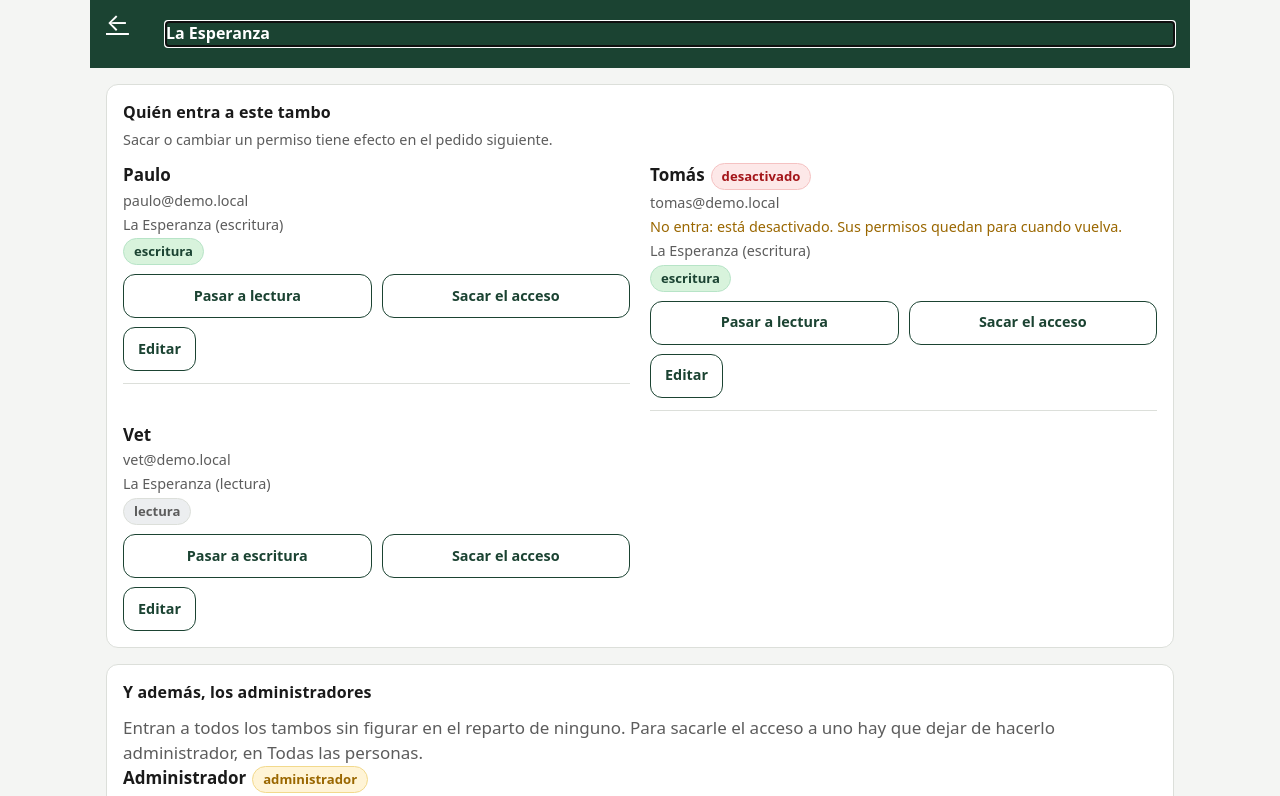
Scenario: repartir el acceso › un rechazo se muestra con el mensaje de la API y la lista queda como estaba
This screenshot has width=1280, height=796.
Expected: the heading "Quién entra a este tambo" is shown, [123,101,331,123]
Click the button "Sacar el acceso" below "paulo@demo.local" at (506, 296), box [382,274,630,318]
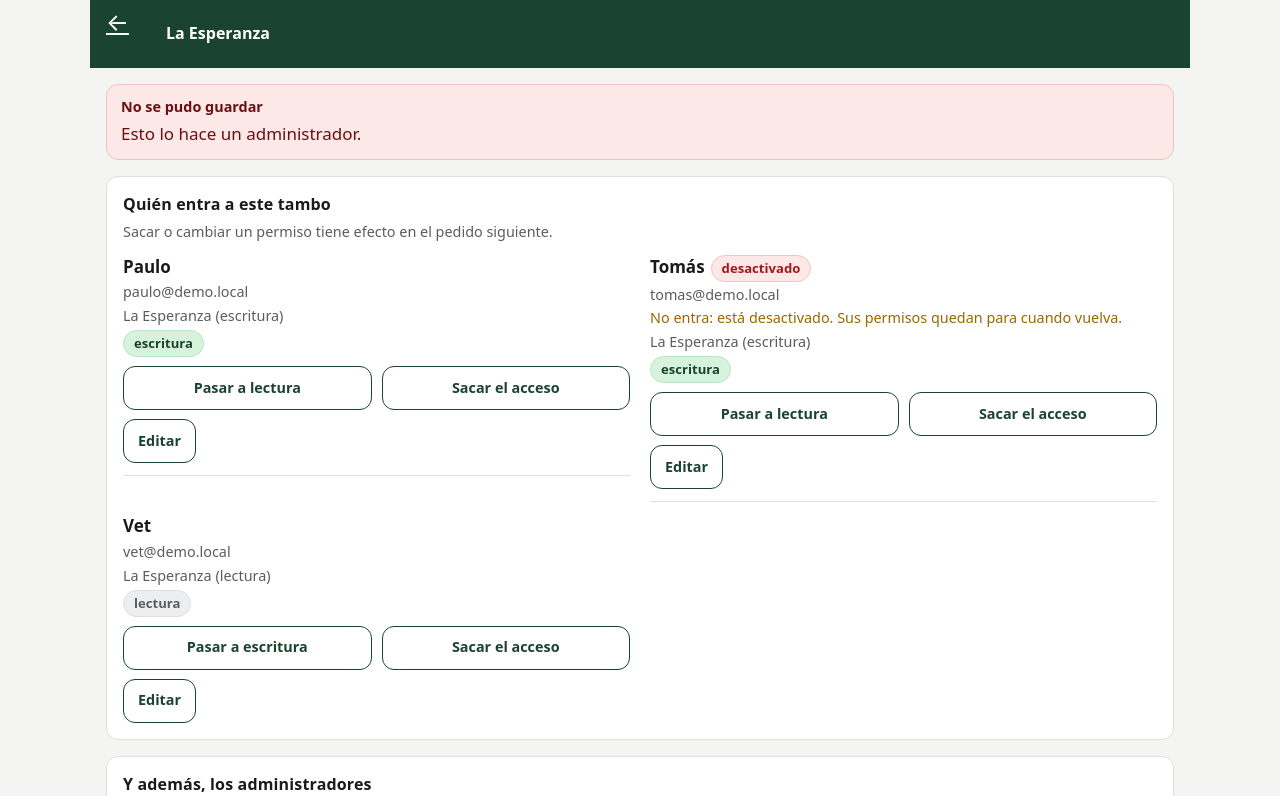
Expected: the text "Paulo" is shown, [123,255,171,279]
Expected: the text "Esto lo hace un administrador." is shown, [121,122,361,145]
